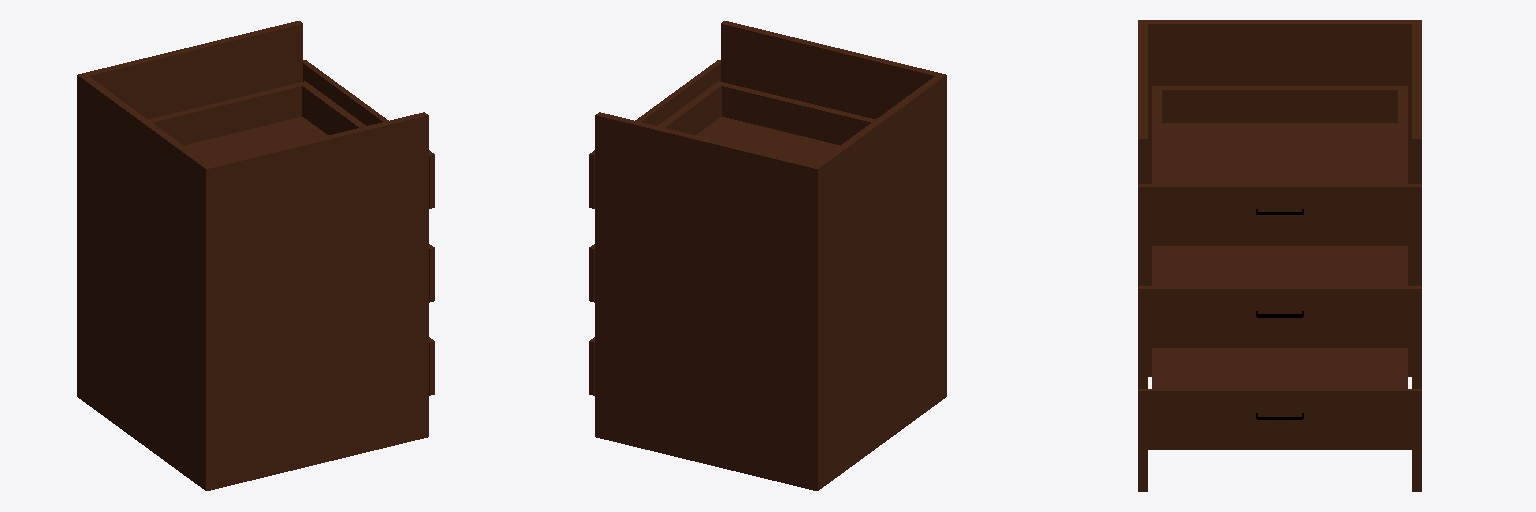
The robot description file, URDF, robot "mk_station":
<robot name="mk_station" version="1.0">
  <joint name="top_drawer_joint" type="prismatic">
    <limit lower="0" upper="0.5" effort="0.00000" velocity="0.00000"/>
    <origin rpy="0.00000 0.00000 0.00000" xyz="0.00000 0.00000 0.66800"/>
    <parent link="body"/>
    <child link="top_drawer"/>
    <axis xyz="1.00000 0.00000 0.00000"/>
  </joint>
  <joint name="middle_drawer_joint" type="prismatic">
    <limit lower="0" upper="0.5" effort="0.00000" velocity="0.00000"/>
    <origin rpy="0.00000 0.00000 0.00000" xyz="0.00000 0.00000 0.42300"/>
    <parent link="body"/>
    <child link="middle_drawer"/>
    <axis xyz="1.00000 0.00000 0.00000"/>
  </joint>
  <joint name="bottom_drawer_joint" type="prismatic">
    <limit lower="0" upper="0.5" effort="0.00000" velocity="0.00000"/>
    <origin rpy="0.00000 0.00000 0.00000" xyz="0.00000 0.00000 0.17800"/>
    <parent link="body"/>
    <child link="bottom_drawer"/>
    <axis xyz="1.00000 0.00000 0.00000"/>
  </joint>
  <link name="body">
    <collision name="body_back_collision">
      <origin rpy="0.00000 0.00000 0.00000" xyz="-0.30500 0.00000 0.42250"/>
      <geometry>
        <box size="0.02000 0.61500 0.84500"/>
      </geometry>
    </collision>
    <visual name="body_back">
      <origin rpy="0.00000 0.00000 0.00000" xyz="-0.30500 0.00000 0.42250"/>
      <material name="gray_wooden"/>
      <geometry>
        <box size="0.02000 0.61500 0.84500"/>
      </geometry>
    </visual>
    <collision name="body_left_collision">
      <origin rpy="0.00000 0.00000 0.00000" xyz="0.00000 -0.29750 0.42250"/>
      <geometry>
        <box size="0.59000 0.02000 0.84500"/>
      </geometry>
    </collision>
    <visual name="body_left">
      <origin rpy="0.00000 0.00000 0.00000" xyz="0.00000 -0.29750 0.42250"/>
      <material name="gray_wooden"/>
      <geometry>
        <box size="0.59000 0.02000 0.84500"/>
      </geometry>
    </visual>
    <collision name="body_right_collision">
      <origin rpy="0.00000 0.00000 0.00000" xyz="0.00000 0.29750 0.42250"/>
      <geometry>
        <box size="0.59000 0.02000 0.84500"/>
      </geometry>
    </collision>
    <visual name="body_right">
      <origin rpy="0.00000 0.00000 0.00000" xyz="0.00000 0.29750 0.42250"/>
      <material name="gray_wooden"/>
      <geometry>
        <box size="0.59000 0.02000 0.84500"/>
      </geometry>
    </visual>
    <collision name="tabletop_collision">
      <origin rpy="0.00000 0.00000 0.00000" xyz="0.00000 0.00000 0.85500"/>
      <geometry>
        <box size="0.63000 0.61500 0.02000"/>
      </geometry>
    </collision>
    <visual name="tabletop">
      <origin rpy="0.00000 0.00000 0.00000" xyz="0.00000 0.00000 0.85500"/>
      <geometry>
        <mesh filename="models/stone_tabletop.glb"/>
      </geometry>
    </visual>
  </link>
  <link name="top_drawer">
    <visual name="handle0">
      <origin rpy="0.00000 0.00000 0.00000" xyz="0.34250 0.00000 0.02"/>
      <material name="black"/>
      <geometry>
        <box size="0.005000 0.10000 0.00500"/>
      </geometry>
    </visual>
    <visual name="handle1">
      <origin rpy="0.00000 0.00000 0.00000" xyz="0.33250 -0.05000 0.02"/>
      <material name="black"/>
      <geometry>
        <box size="0.020000 0.00500 0.00500"/>
      </geometry>
    </visual>
    <visual name="handle2">
      <origin rpy="0.00000 0.00000 0.00000" xyz="0.33250 0.05000 0.02"/>
      <material name="black"/>
      <geometry>
        <box size="0.020000 0.00500 0.00500"/>
      </geometry>
    </visual>
    <collision name="drawer_front_collision">
      <origin rpy="0.00000 0.00000 0.00000" xyz="0.30500 0.00000 0.0"/>
      <geometry>
        <box size="0.015000 0.61500 0.14000"/>
      </geometry>
    </collision>
    <visual name="drawer_front">
      <origin rpy="0.00000 0.00000 0.00000" xyz="0.30500 0.00000 0.0"/>
      <material name="gray_wooden"/>
      <geometry>
        <box size="0.015000 0.61500 0.14000"/>
      </geometry>
    </visual>
    <collision name="drawer_back_collision">
      <origin rpy="0.00000 0.00000 0.00000" xyz="-0.28500 0.00000 -0.02"/>
      <geometry>
        <box size="0.02000 0.51500 0.10000"/>
      </geometry>
    </collision>
    <visual name="drawer_back">
      <origin rpy="0.00000 0.00000 0.00000" xyz="-0.28500 0.00000 -0.02"/>
      <material name="white_wooden"/>
      <geometry>
        <box size="0.02000 0.51500 0.10000"/>
      </geometry>
    </visual>
    <collision name="drawer_interior_bottom_collision">
      <origin rpy="0.00000 0.00000 0.00000" xyz="0.00000 0.00000 -0.06"/>
      <geometry>
        <box size="0.55000 0.51500 0.02000"/>
      </geometry>
    </collision>
    <visual name="drawer_interior_bottom">
      <origin rpy="0.00000 0.00000 0.00000" xyz="0.00000 0.00000 -0.06"/>
      <material name="white_wooden"/>
      <geometry>
        <box size="0.55000 0.51500 0.02000"/>
      </geometry>
    </visual>
    <collision name="drawer_interior_front_collision">
      <origin rpy="0.00000 0.00000 0.00000" xyz="0.28500 0.00000 -0.02"/>
      <geometry>
        <box size="0.02000 0.51500 0.10000"/>
      </geometry>
    </collision>
    <visual name="drawer_interior_front">
      <origin rpy="0.00000 0.00000 0.00000" xyz="0.28500 0.00000 -0.02"/>
      <material name="white_wooden"/>
      <geometry>
        <box size="0.02000 0.51500 0.10000"/>
      </geometry>
    </visual>
    <collision name="drawer_left_collision">
      <origin rpy="0.00000 0.00000 0.00000" xyz="0.00000 -0.26750 -0.02"/>
      <geometry>
        <box size="0.59000 0.02000 0.10000"/>
      </geometry>
    </collision>
    <visual name="drawer_left">
      <origin rpy="0.00000 0.00000 0.00000" xyz="0.00000 -0.26750 -0.02"/>
      <material name="white_wooden"/>
      <geometry>
        <box size="0.59000 0.02000 0.10000"/>
      </geometry>
    </visual>
    <collision name="drawer_right_collision">
      <origin rpy="0.00000 0.00000 0.00000" xyz="0.00000 0.26750 -0.02"/>
      <geometry>
        <box size="0.59000 0.02000 0.10000"/>
      </geometry>
    </collision>
    <visual name="drawer_right">
      <origin rpy="0.00000 0.00000 0.00000" xyz="0.00000 0.26750 -0.02"/>
      <material name="white_wooden"/>
      <geometry>
        <box size="0.59000 0.02000 0.10000"/>
      </geometry>
    </visual>
  </link>
  <link name="middle_drawer">
    <visual name="handle0">
      <origin rpy="0.00000 0.00000 0.00000" xyz="0.34250 0.00000 0.02"/>
      <material name="black"/>
      <geometry>
        <box size="0.005000 0.10000 0.00500"/>
      </geometry>
    </visual>
    <visual name="handle1">
      <origin rpy="0.00000 0.00000 0.00000" xyz="0.33250 -0.05000 0.02"/>
      <material name="black"/>
      <geometry>
        <box size="0.020000 0.00500 0.00500"/>
      </geometry>
    </visual>
    <visual name="handle2">
      <origin rpy="0.00000 0.00000 0.00000" xyz="0.33250 0.05000 0.02"/>
      <material name="black"/>
      <geometry>
        <box size="0.020000 0.00500 0.00500"/>
      </geometry>
    </visual>
    <collision name="drawer_front_collision">
      <origin rpy="0.00000 0.00000 0.00000" xyz="0.30500 0.00000 0.0"/>
      <geometry>
        <box size="0.015000 0.61500 0.14000"/>
      </geometry>
    </collision>
    <visual name="drawer_front">
      <origin rpy="0.00000 0.00000 0.00000" xyz="0.30500 0.00000 0.0"/>
      <material name="gray_wooden"/>
      <geometry>
        <box size="0.015000 0.61500 0.14000"/>
      </geometry>
    </visual>
    <collision name="drawer_back_collision">
      <origin rpy="0.00000 0.00000 0.00000" xyz="-0.28500 0.00000 -0.02"/>
      <geometry>
        <box size="0.02000 0.51500 0.10000"/>
      </geometry>
    </collision>
    <visual name="drawer_back">
      <origin rpy="0.00000 0.00000 0.00000" xyz="-0.28500 0.00000 -0.02"/>
      <material name="white_wooden"/>
      <geometry>
        <box size="0.02000 0.51500 0.10000"/>
      </geometry>
    </visual>
    <collision name="drawer_interior_bottom_collision">
      <origin rpy="0.00000 0.00000 0.00000" xyz="0.00000 0.00000 -0.06"/>
      <geometry>
        <box size="0.55000 0.51500 0.02000"/>
      </geometry>
    </collision>
    <visual name="drawer_interior_bottom">
      <origin rpy="0.00000 0.00000 0.00000" xyz="0.00000 0.00000 -0.06"/>
      <material name="white_wooden"/>
      <geometry>
        <box size="0.55000 0.51500 0.02000"/>
      </geometry>
    </visual>
    <collision name="drawer_interior_front_collision">
      <origin rpy="0.00000 0.00000 0.00000" xyz="0.28500 0.00000 -0.02"/>
      <geometry>
        <box size="0.02000 0.51500 0.10000"/>
      </geometry>
    </collision>
    <visual name="drawer_interior_front">
      <origin rpy="0.00000 0.00000 0.00000" xyz="0.28500 0.00000 -0.02"/>
      <material name="white_wooden"/>
      <geometry>
        <box size="0.02000 0.51500 0.10000"/>
      </geometry>
    </visual>
    <collision name="drawer_left_collision">
      <origin rpy="0.00000 0.00000 0.00000" xyz="0.00000 -0.26750 -0.02"/>
      <geometry>
        <box size="0.59000 0.02000 0.10000"/>
      </geometry>
    </collision>
    <visual name="drawer_left">
      <origin rpy="0.00000 0.00000 0.00000" xyz="0.00000 -0.26750 -0.02"/>
      <material name="white_wooden"/>
      <geometry>
        <box size="0.59000 0.02000 0.10000"/>
      </geometry>
    </visual>
    <collision name="drawer_right_collision">
      <origin rpy="0.00000 0.00000 0.00000" xyz="0.00000 0.26750 -0.02"/>
      <geometry>
        <box size="0.59000 0.02000 0.10000"/>
      </geometry>
    </collision>
    <visual name="drawer_right">
      <origin rpy="0.00000 0.00000 0.00000" xyz="0.00000 0.26750 -0.02"/>
      <material name="white_wooden"/>
      <geometry>
        <box size="0.59000 0.02000 0.10000"/>
      </geometry>
    </visual>
  </link>
  <link name="bottom_drawer">
    <visual name="handle0">
      <origin rpy="0.00000 0.00000 0.00000" xyz="0.34250 0.00000 0.02"/>
      <material name="black"/>
      <geometry>
        <box size="0.005000 0.10000 0.00500"/>
      </geometry>
    </visual>
    <visual name="handle1">
      <origin rpy="0.00000 0.00000 0.00000" xyz="0.33250 -0.05000 0.02"/>
      <material name="black"/>
      <geometry>
        <box size="0.020000 0.00500 0.00500"/>
      </geometry>
    </visual>
    <visual name="handle2">
      <origin rpy="0.00000 0.00000 0.00000" xyz="0.33250 0.05000 0.02"/>
      <material name="black"/>
      <geometry>
        <box size="0.020000 0.00500 0.00500"/>
      </geometry>
    </visual>
    <collision name="drawer_front_collision">
      <origin rpy="0.00000 0.00000 0.00000" xyz="0.30500 0.00000 0.0"/>
      <geometry>
        <box size="0.015000 0.61500 0.14000"/>
      </geometry>
    </collision>
    <visual name="drawer_front">
      <origin rpy="0.00000 0.00000 0.00000" xyz="0.30500 0.00000 0.0"/>
      <material name="gray_wooden"/>
      <geometry>
        <box size="0.015000 0.61500 0.14000"/>
      </geometry>
    </visual>
    <collision name="drawer_back_collision">
      <origin rpy="0.00000 0.00000 0.00000" xyz="-0.28500 0.00000 -0.02"/>
      <geometry>
        <box size="0.02000 0.51500 0.10000"/>
      </geometry>
    </collision>
    <visual name="drawer_back">
      <origin rpy="0.00000 0.00000 0.00000" xyz="-0.28500 0.00000 -0.02"/>
      <material name="white_wooden"/>
      <geometry>
        <box size="0.02000 0.51500 0.10000"/>
      </geometry>
    </visual>
    <collision name="drawer_interior_bottom_collision">
      <origin rpy="0.00000 0.00000 0.00000" xyz="0.00000 0.00000 -0.06"/>
      <geometry>
        <box size="0.55000 0.51500 0.02000"/>
      </geometry>
    </collision>
    <visual name="drawer_interior_bottom">
      <origin rpy="0.00000 0.00000 0.00000" xyz="0.00000 0.00000 -0.06"/>
      <material name="white_wooden"/>
      <geometry>
        <box size="0.55000 0.51500 0.02000"/>
      </geometry>
    </visual>
    <collision name="drawer_interior_front_collision">
      <origin rpy="0.00000 0.00000 0.00000" xyz="0.28500 0.00000 -0.02"/>
      <geometry>
        <box size="0.02000 0.51500 0.10000"/>
      </geometry>
    </collision>
    <visual name="drawer_interior_front">
      <origin rpy="0.00000 0.00000 0.00000" xyz="0.28500 0.00000 -0.02"/>
      <material name="white_wooden"/>
      <geometry>
        <box size="0.02000 0.51500 0.10000"/>
      </geometry>
    </visual>
    <collision name="drawer_left_collision">
      <origin rpy="0.00000 0.00000 0.00000" xyz="0.00000 -0.26750 -0.02"/>
      <geometry>
        <box size="0.59000 0.02000 0.10000"/>
      </geometry>
    </collision>
    <visual name="drawer_left">
      <origin rpy="0.00000 0.00000 0.00000" xyz="0.00000 -0.26750 -0.02"/>
      <material name="white_wooden"/>
      <geometry>
        <box size="0.59000 0.02000 0.10000"/>
      </geometry>
    </visual>
    <collision name="drawer_right_collision">
      <origin rpy="0.00000 0.00000 0.00000" xyz="0.00000 0.26750 -0.02"/>
      <geometry>
        <box size="0.59000 0.02000 0.10000"/>
      </geometry>
    </collision>
    <visual name="drawer_right">
      <origin rpy="0.00000 0.00000 0.00000" xyz="0.00000 0.26750 -0.02"/>
      <material name="white_wooden"/>
      <geometry>
        <box size="0.59000 0.02000 0.10000"/>
      </geometry>
    </visual>
  </link>
  <material name="gray_wooden">
    <color rgba="0.325 0.187 0.1166 1.0"/>
  </material>
  <material name="white_wooden">
    <color rgba="0.325 0.187 0.1166 1.0"/>
  </material>
  <material name="black">
    <color rgba="0.01266 0.00226 0.0005 1.00000"/>
  </material>
</robot>

--- Facts derived from the render (not from the file) ---
Views: 3 orthographic renders of the robot side by side, from view 1: azimuth 30°, elevation 25°; view 2: azimuth 150°, elevation 25°; view 3: azimuth 270°, elevation 25°.
Model mk_station with 4 links and 3 joints (3 prismatic), rooted at body, posed all joints at 0.
Visible links, largest first — view 1: body, top_drawer; view 2: body, top_drawer; view 3: top_drawer, middle_drawer, bottom_drawer, body.
Link boxes in pixels (x1,y1,x2,y2): body: [77, 21, 428, 490]; top_drawer: [148, 60, 434, 208]; body: [595, 21, 946, 490]; top_drawer: [589, 60, 875, 208]; top_drawer: [1138, 86, 1421, 245]; middle_drawer: [1138, 246, 1421, 347]; bottom_drawer: [1138, 348, 1421, 449]; body: [1138, 20, 1421, 491].
Bounding box of the posed robot: 0.66 × 0.615 × 0.845 m (x, y, z).
Meshes: 1 distinct files referenced, 0 mesh visuals loaded (none loaded); not drawn: 1 (file found but could not be loaded).